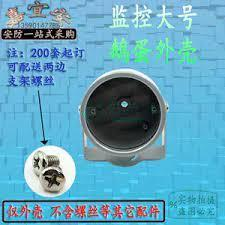maru: (78, 63, 177, 177)
